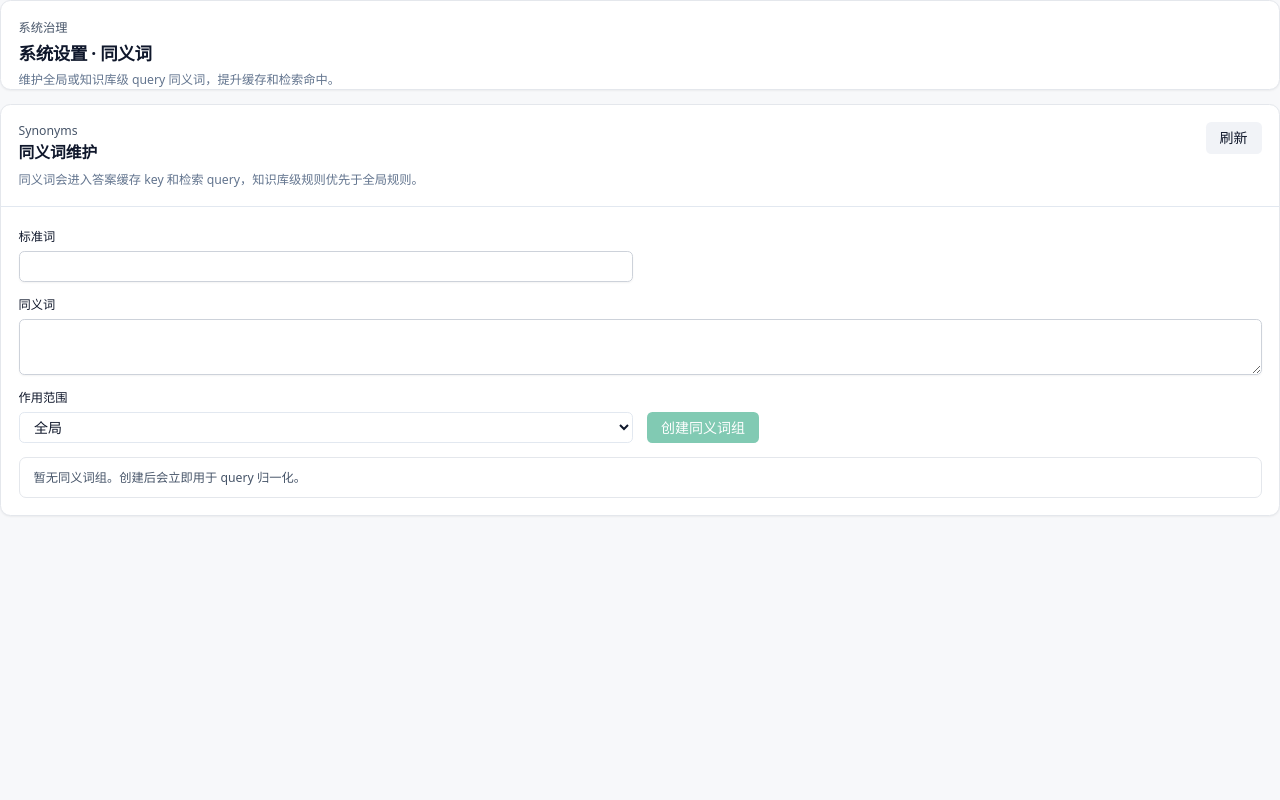
it: SettingsPage synonyms › creates edits disables and deletes synonym groups
The image size is (1280, 800).
Expected: the text box labelled "同义词" is shown, [18,319,1262,375]
In the field labelled "标准词": {"x": 326, "y": 267} [18,251,633,282], type "作用"
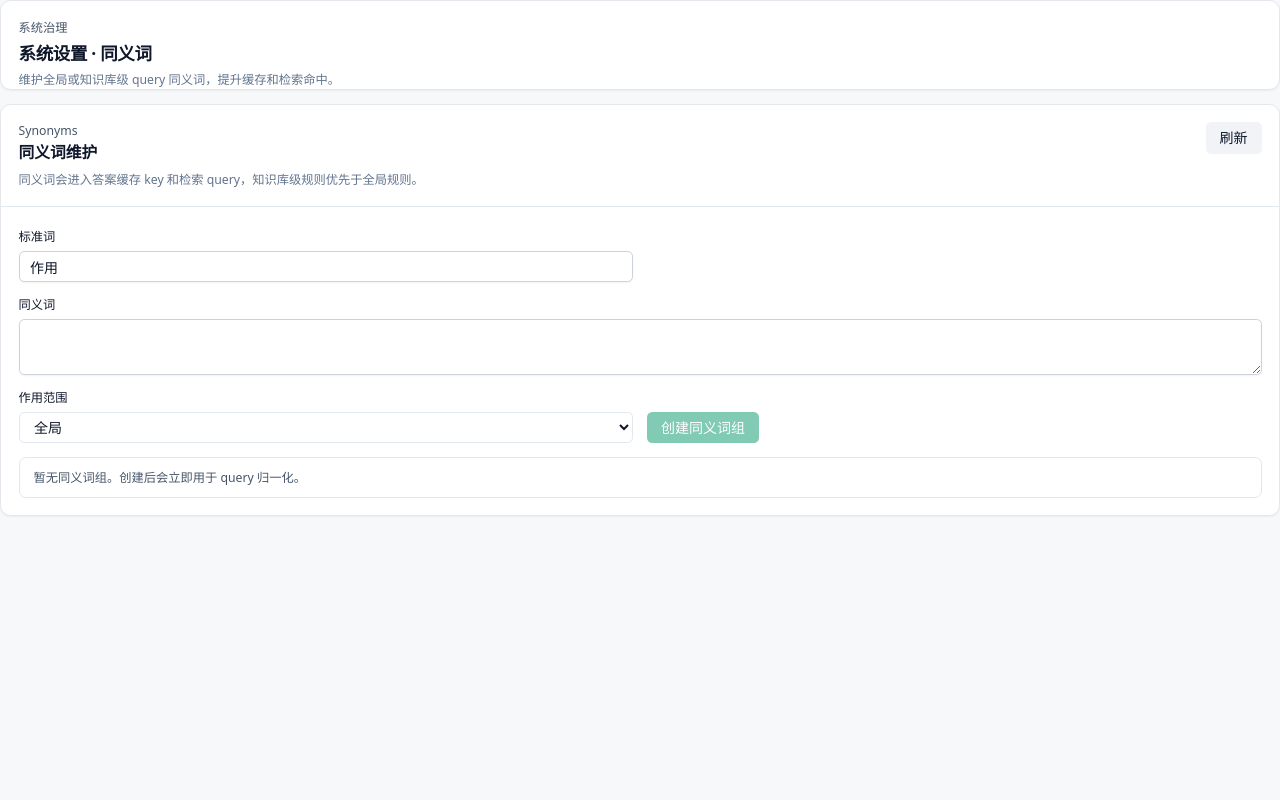
In the text box labelled "同义词": {"x": 640, "y": 347} [18,319,1262,375], type "干啥用的, 有什么作用"
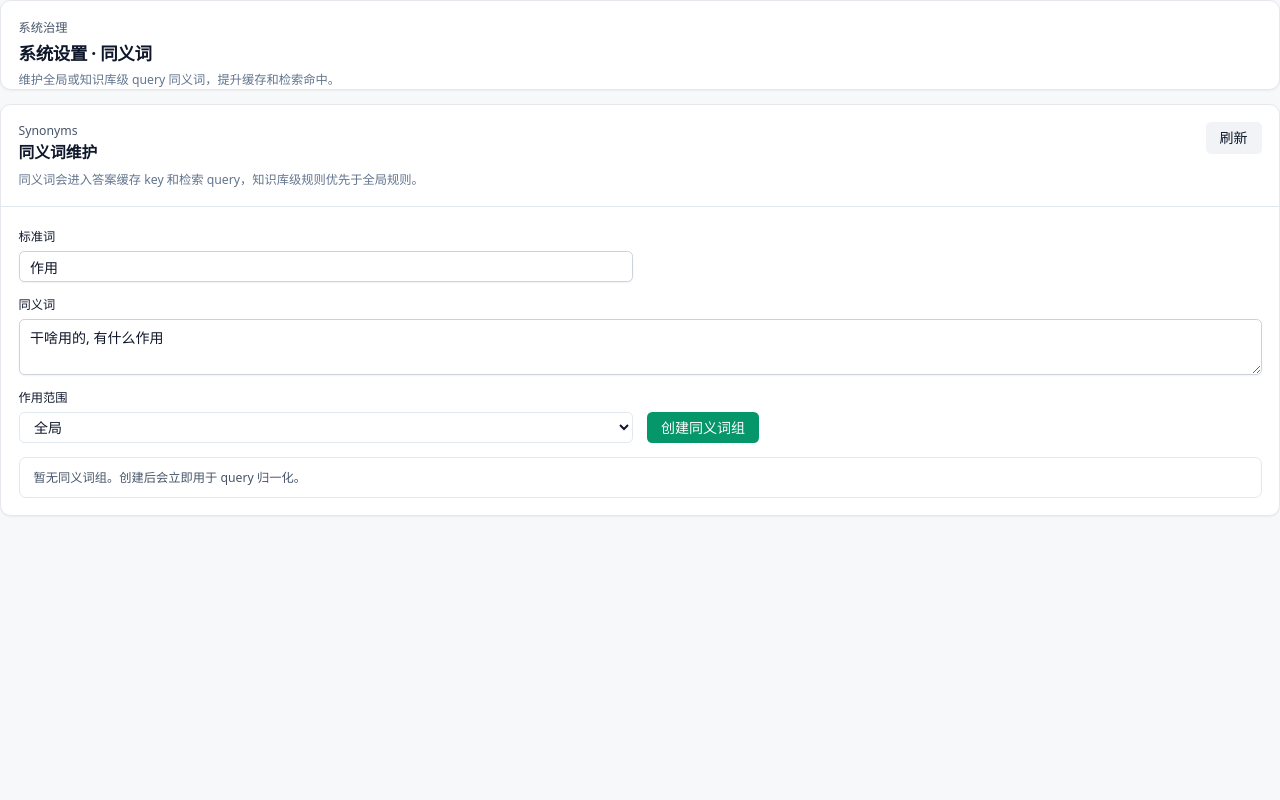
Click the button "创建同义词组": {"x": 703, "y": 428} [647,412,759,443]
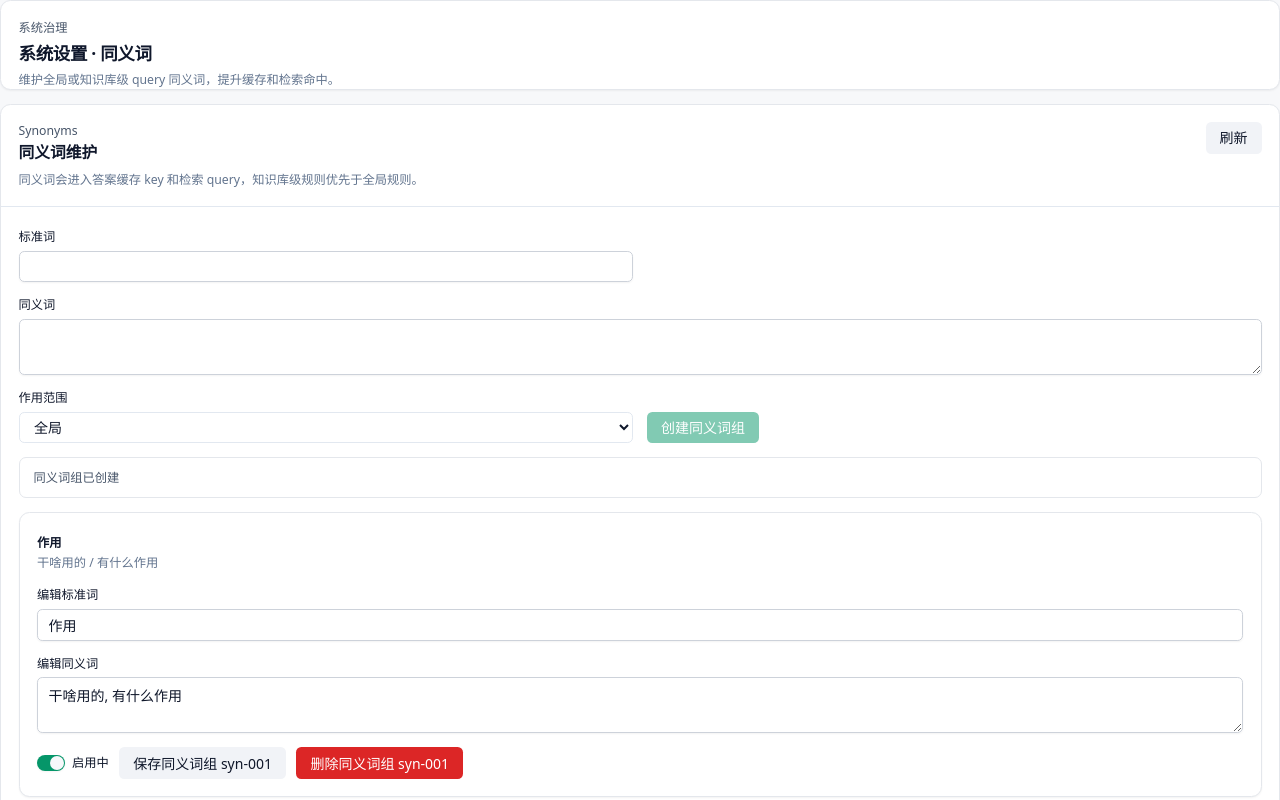
Expected: the text "作用" is shown, [37,534,62,551]
Expected: the text "干啥用的 / 有什么作用" is shown, [37,554,158,571]
Replace the text in the field named "编辑标准词 syn-001" with "用途": {"x": 640, "y": 625} [37,609,1243,640]
Click the button "保存同义词组 syn-001": {"x": 203, "y": 763} [119,747,286,779]
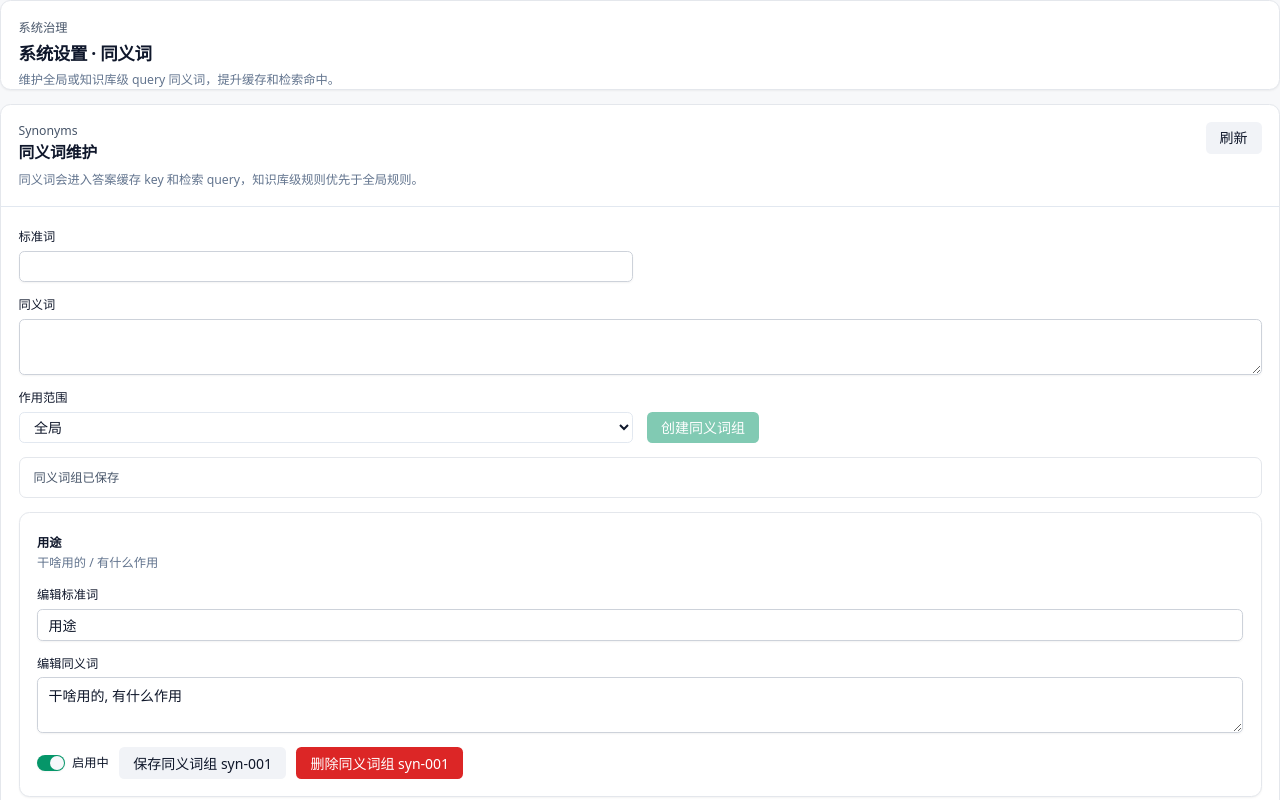
Expected: the text "用途" is shown, [37,534,62,551]
Click the switch named "禁用同义词组 syn-001": {"x": 51, "y": 763} [37,755,65,771]
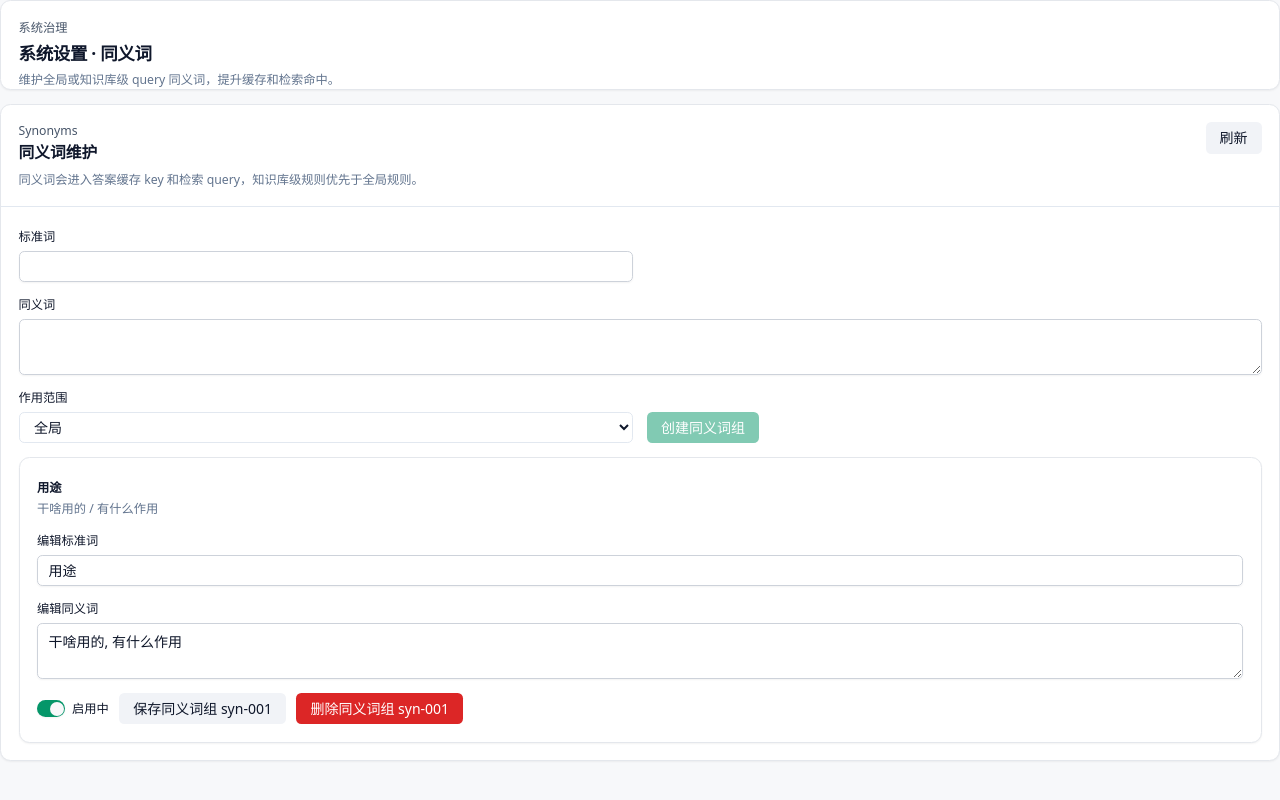
Click the button "删除同义词组 syn-001": {"x": 380, "y": 709} [296,693,463,724]
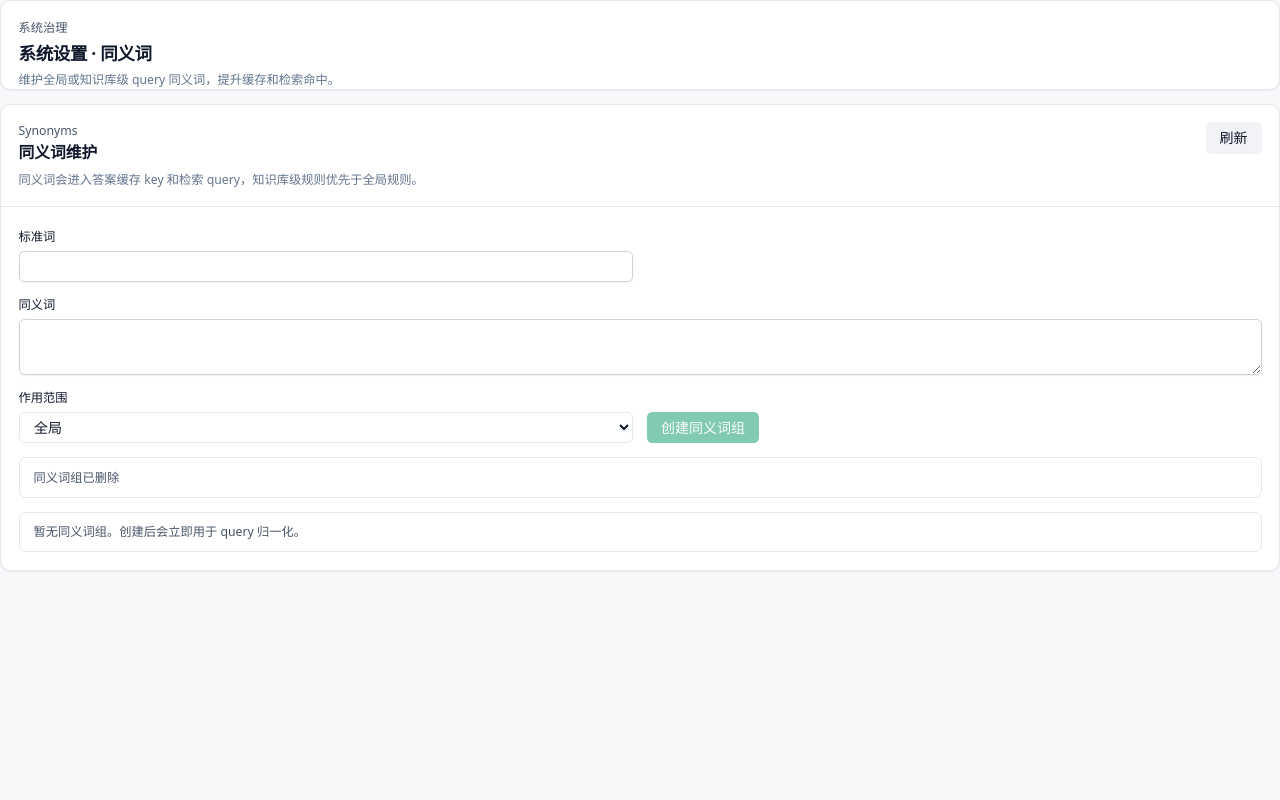
Expected: the text "用途" is gone
